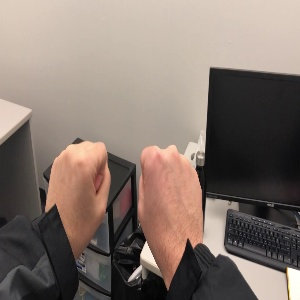hand: (139, 145, 203, 243), (45, 140, 110, 226)
